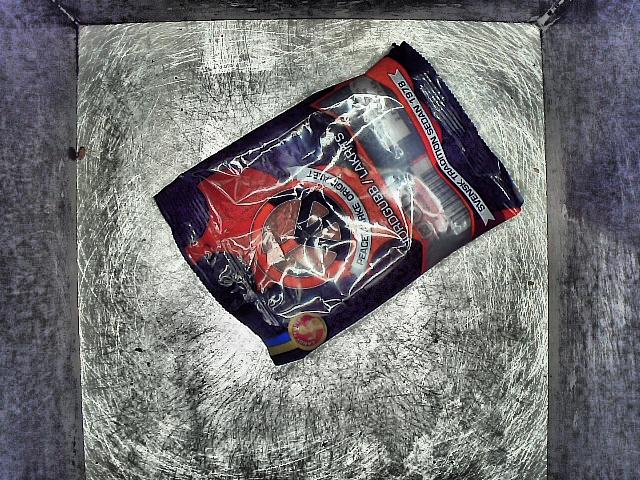Plastic: (156, 34, 519, 371)
